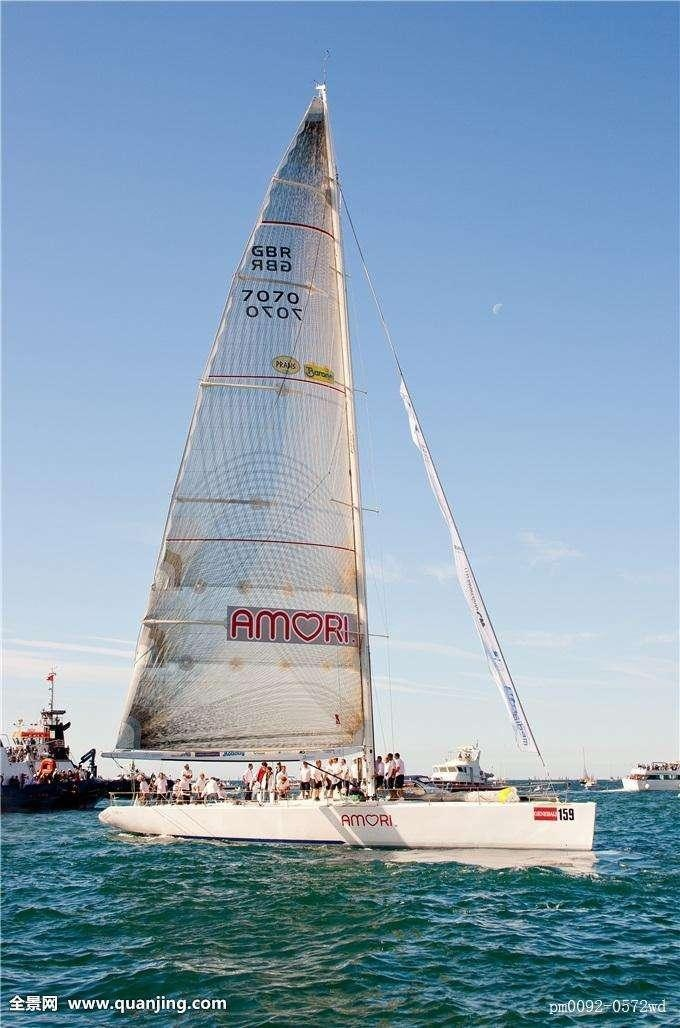fanchuan: (87, 43, 599, 856)
